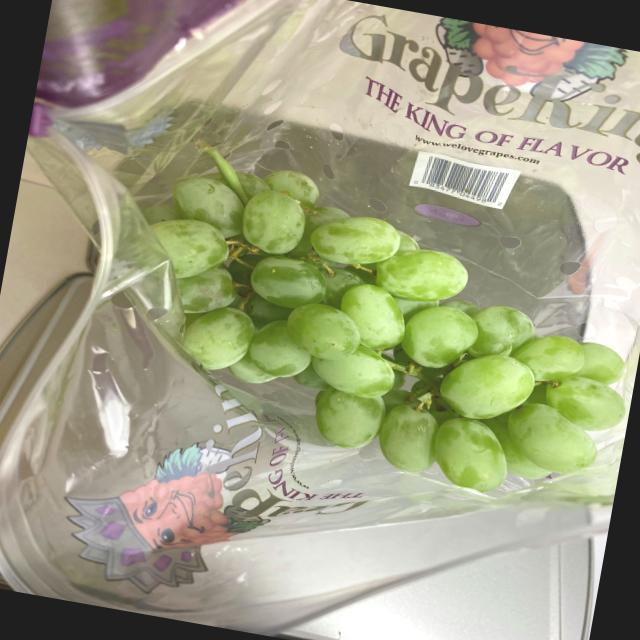grapes: (100, 132, 640, 504)
